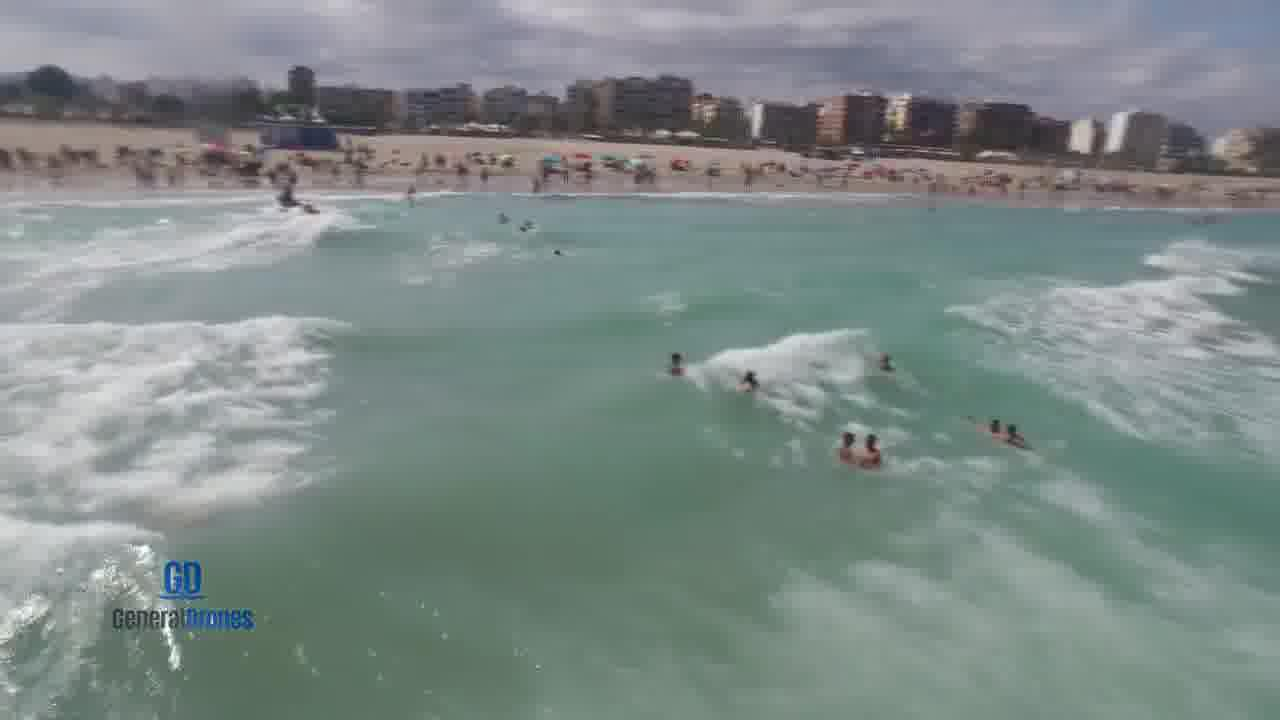human: (728, 360, 774, 399), (854, 425, 892, 470), (822, 425, 862, 465), (963, 404, 1005, 442), (657, 344, 695, 383), (868, 345, 909, 379), (998, 410, 1033, 448)
